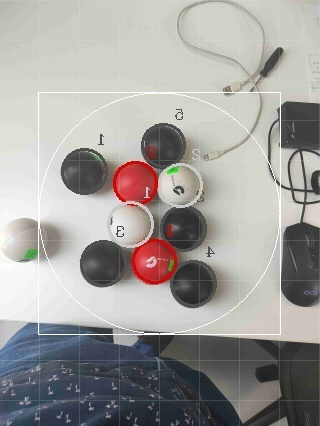Pelota blanca: (175, 0, 268, 94), (189, 92, 262, 160), (282, 222, 320, 310), (61, 145, 111, 195), (157, 161, 207, 208), (106, 201, 156, 248), (0, 217, 47, 264)
Pelota negra: (61, 145, 111, 195), (170, 260, 220, 310), (79, 238, 127, 288), (159, 206, 209, 254), (141, 121, 188, 166)
Pelota roja: (130, 236, 180, 286), (111, 158, 161, 206)
